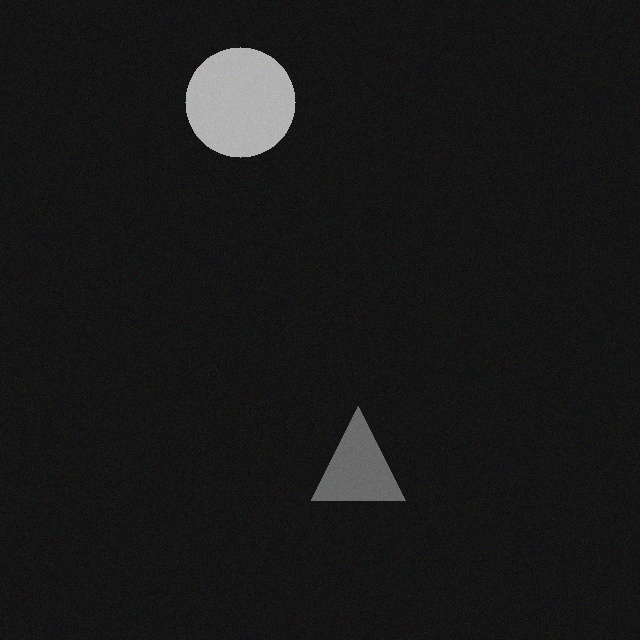circle: (180, 40, 290, 150)
triangle: (306, 399, 400, 493)
